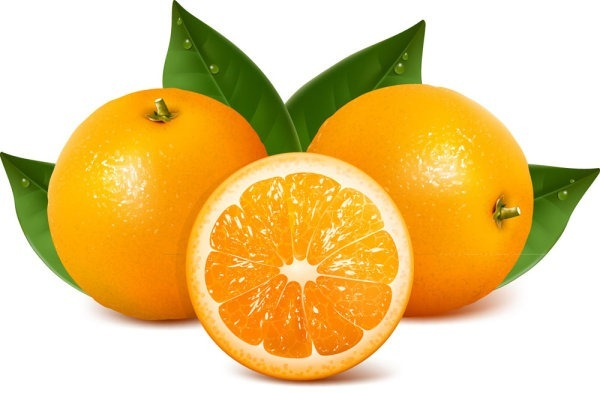orange: (291, 81, 545, 348), (42, 86, 282, 330)
